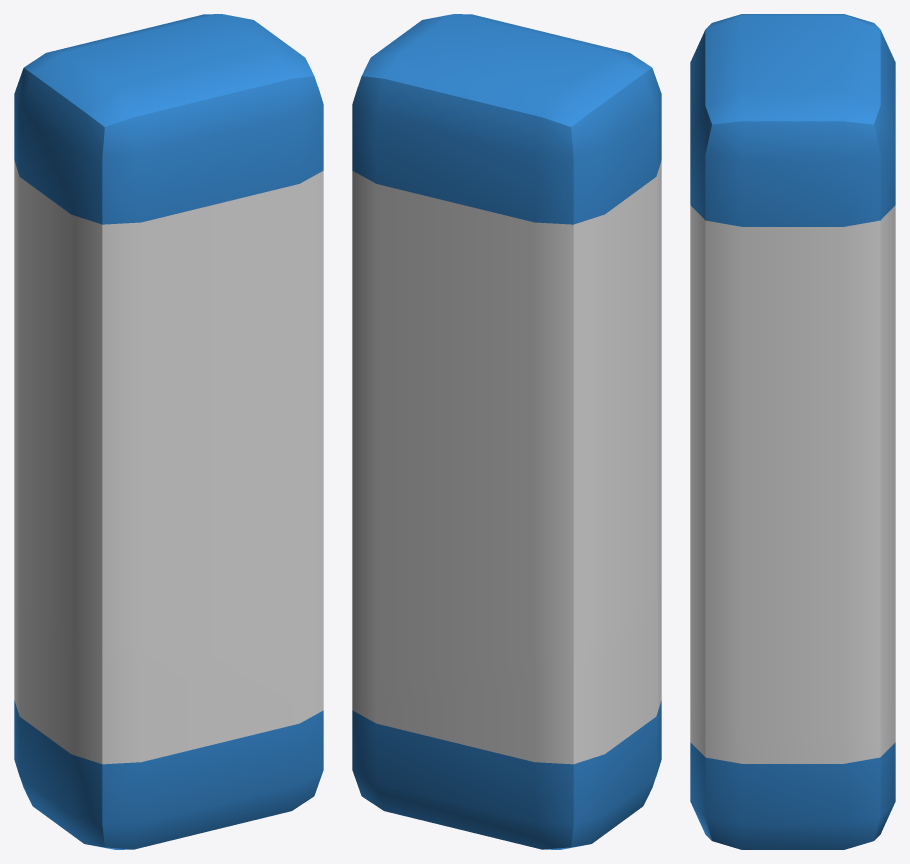
The model's file is Kırıss.fbx.
The picture shows the model from 3 angles, left to right: view 1: azimuth 30°, elevation 25°; view 2: azimuth 150°, elevation 25°; view 3: azimuth 270°, elevation 25°; orthographic projection.
Visible parts, largest first — view 1: pCube81; view 2: pCube81; view 3: pCube81.
Part boxes in pixels (<box>): pCube81: <box>14,14,323,849</box>; pCube81: <box>352,14,661,849</box>; pCube81: <box>690,14,895,849</box>.
Bounding box in the file's own units: 144 × 424 × 104.
